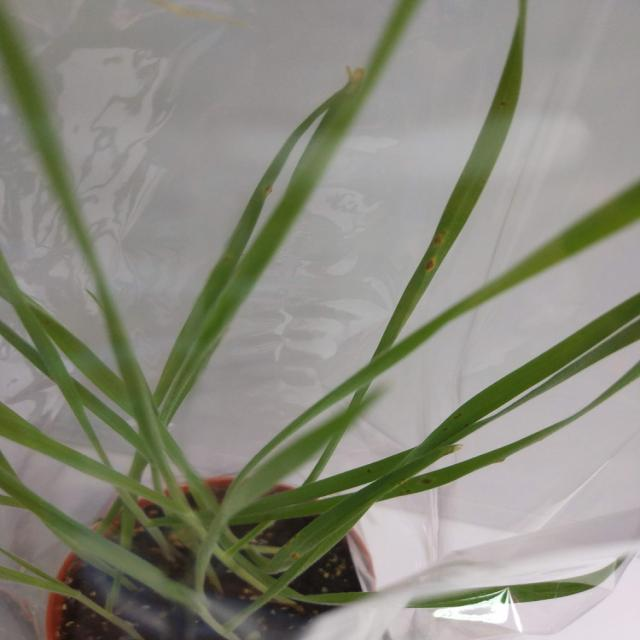wheat-stemrust: (415, 217, 467, 276), (379, 470, 447, 501), (432, 407, 482, 443), (276, 532, 317, 569), (245, 176, 278, 211)
